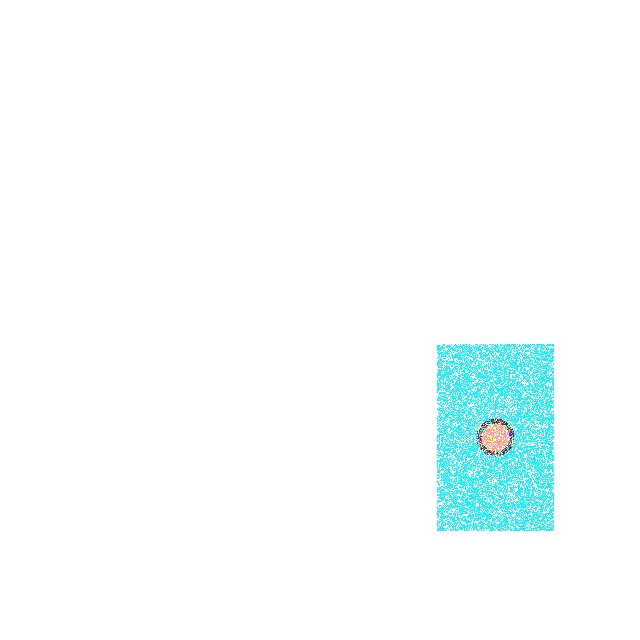Videoprojecteur: (437, 344, 553, 530)
